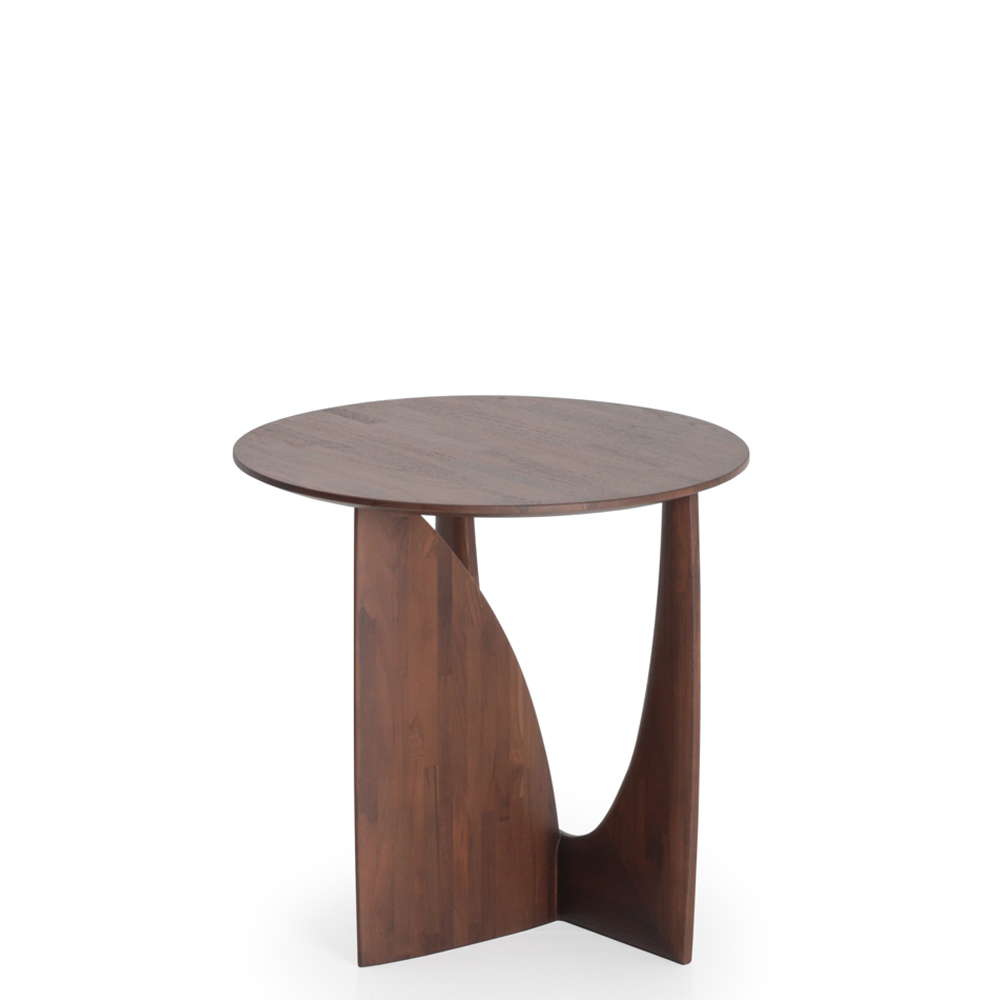meja: (226, 354, 759, 981)
